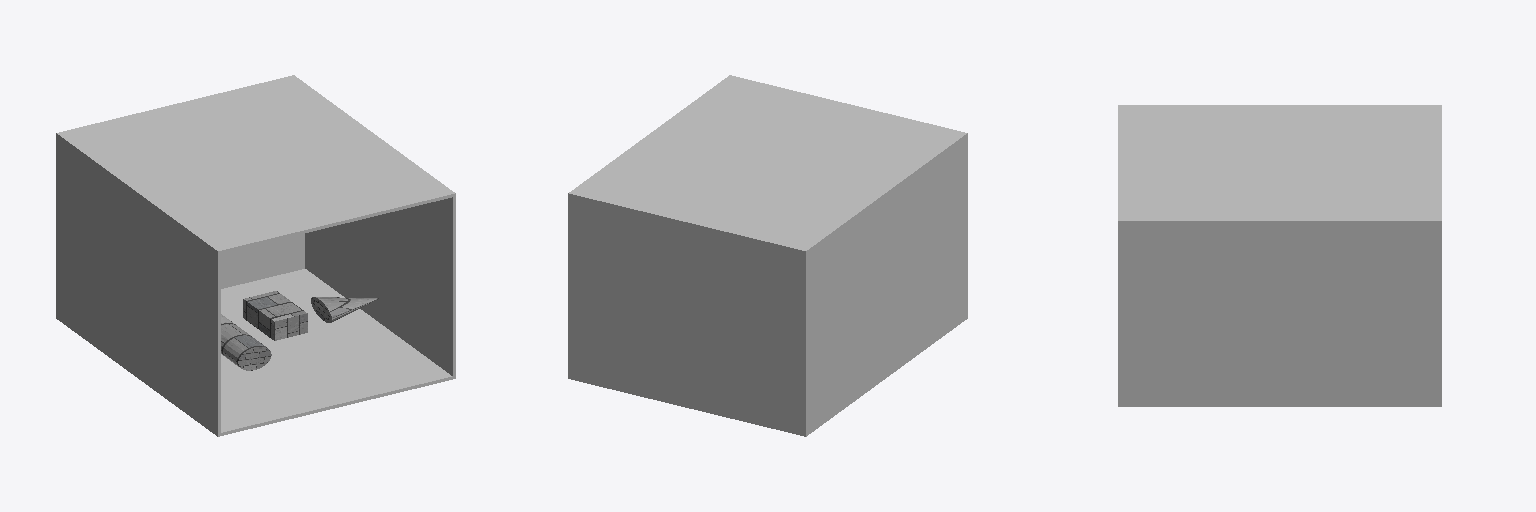
3 views of the same model, side by side, from view 1: azimuth 30°, elevation 25°; view 2: azimuth 150°, elevation 25°; view 3: azimuth 270°, elevation 25° (orthographic).
Parts seen in each view (by area): view 1: Mesh, Mesh (2), Mesh (3), Mesh (4); view 2: Mesh; view 3: Mesh.
Boxes of the visible parts, x1=… form: Mesh: x1=56, y1=75, x2=455, y2=436; Mesh (2): x1=243, y1=291, x2=307, y2=340; Mesh (3): x1=221, y1=314, x2=271, y2=370; Mesh (4): x1=311, y1=297, x2=378, y2=322; Mesh: x1=568, y1=75, x2=967, y2=436; Mesh: x1=1118, y1=105, x2=1441, y2=406.
Size of the model in its own units: 7.78 by 5.8 by 9.16.
2 materials, 1 textured.